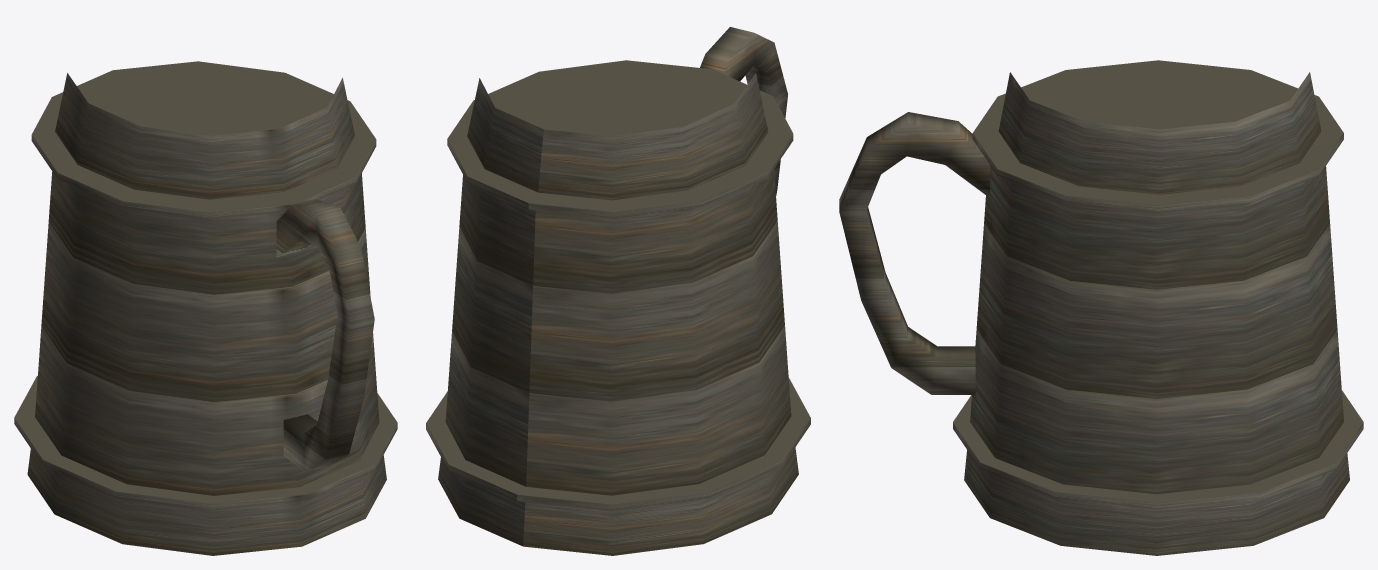
The model's file is mug.glb.
The picture shows the model from 3 angles, left to right: view 1: azimuth 30°, elevation 25°; view 2: azimuth 150°, elevation 25°; view 3: azimuth 270°, elevation 25°; orthographic projection.
Visible parts, largest first — view 1: mug.ms3d.mo; view 2: mug.ms3d.mo; view 3: mug.ms3d.mo.
Boxes of the visible parts, box(x1,y1,x2,y2) form: mug.ms3d.mo: box(14, 61, 397, 555); mug.ms3d.mo: box(426, 27, 810, 555); mug.ms3d.mo: box(839, 60, 1363, 555).
Bounding box in the file's own units: 16.19 × 19.05 × 22.19.
1 material, 1 textured.
